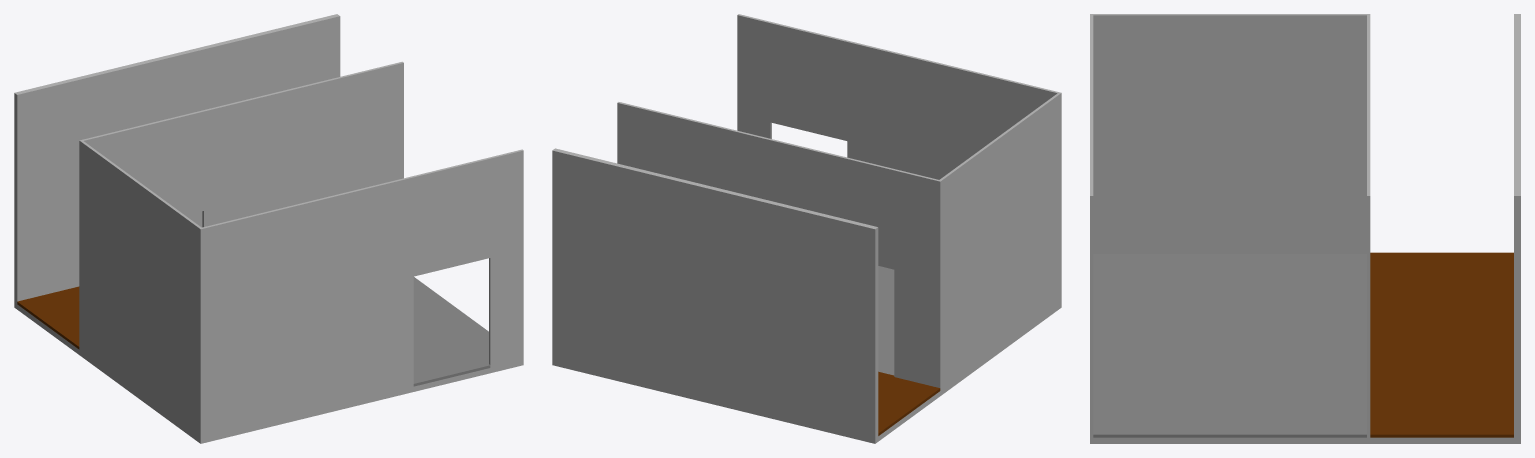
Rendered from 4x2 second (1)-0.obj.
3 views of the same model, side by side, from view 1: azimuth 30°, elevation 25°; view 2: azimuth 150°, elevation 25°; view 3: azimuth 270°, elevation 25° (orthographic). The views are drawn at different scales.
Visible parts, largest first — view 1: 4x2 second (1)-0; view 2: 4x2 second (1)-0; view 3: 4x2 second (1)-0.
Part boxes in pixels (x1=…): 4x2 second (1)-0: x1=14, y1=14, x2=523, y2=443; 4x2 second (1)-0: x1=552, y1=14, x2=1061, y2=443; 4x2 second (1)-0: x1=1090, y1=14, x2=1520, y2=443.
Size of the model in its own units: 126 by 80 by 126.
1 material, 1 textured.
